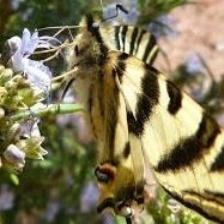butterfly: (60, 15, 224, 222)
